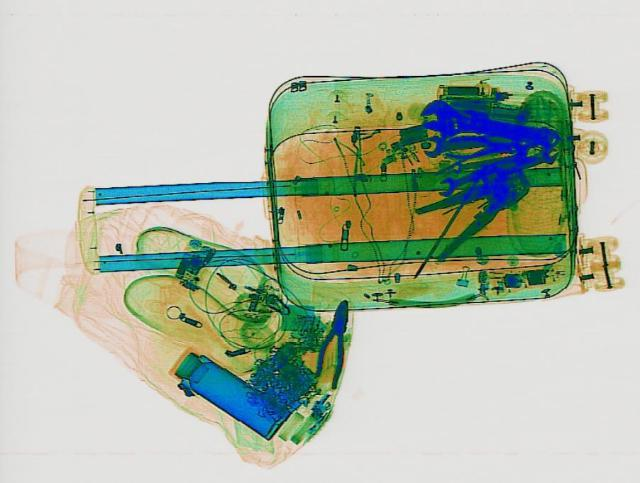Pliers: (394, 162, 558, 261), (311, 296, 355, 388)
Wrench: (412, 96, 558, 149), (432, 144, 562, 195)
